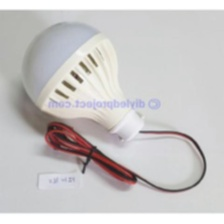light_bulb: (15, 16, 150, 145)
